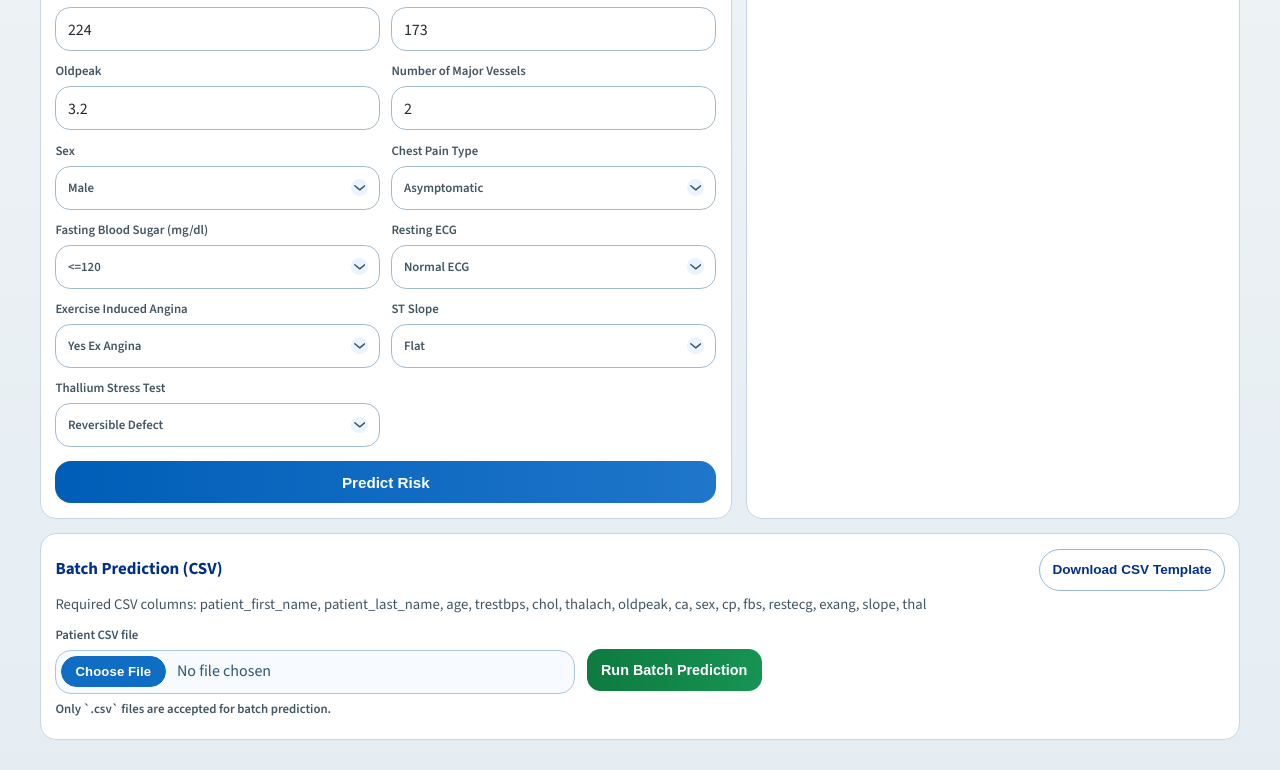
save flow posts patient name fields and shows saved confirmation
This screenshot has width=1280, height=770.
(page scrolled)
Click the button "Predict Risk".
click(386, 482)  # box [55,462,716,504]
(page scrolled)
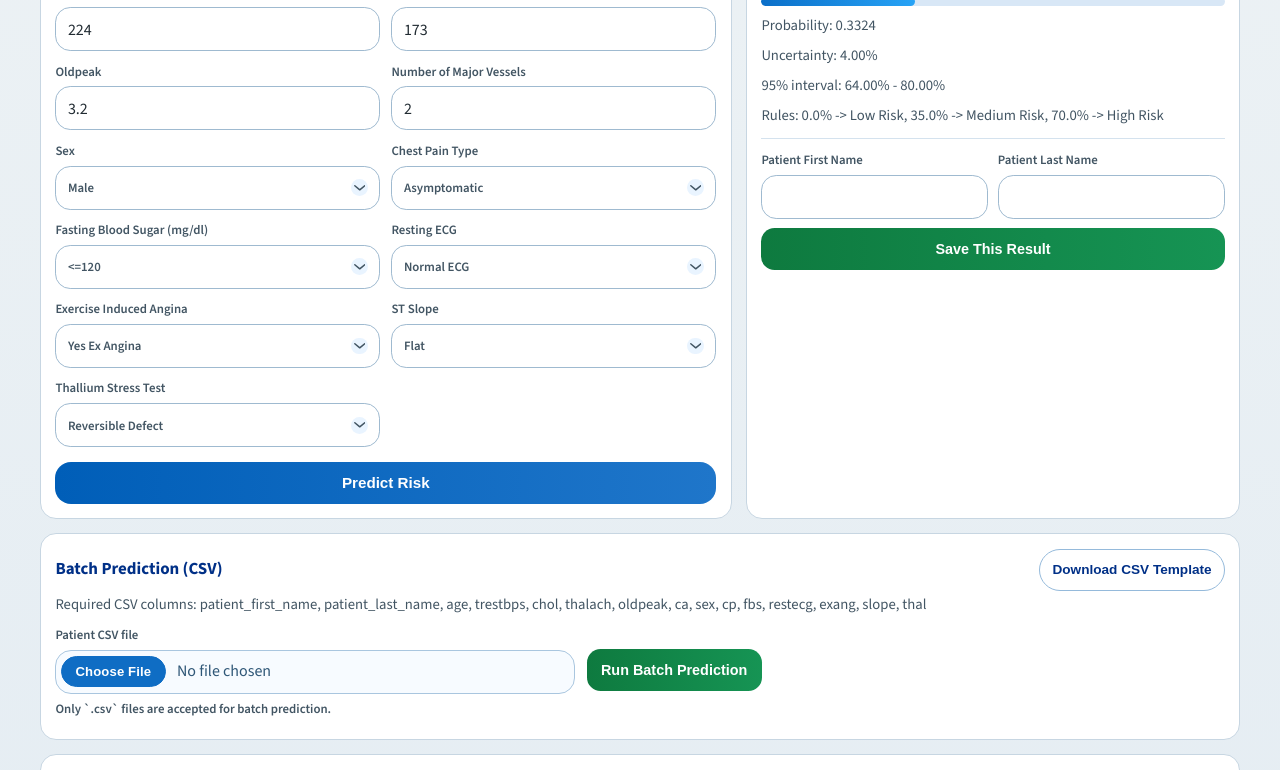
Result: the button "Save This Result" is shown at [761,228,1225,270]
Type "Ada" into the field labelled "Patient First Name".
click(875, 197); type("Ada")  # box [761,175,988,219]
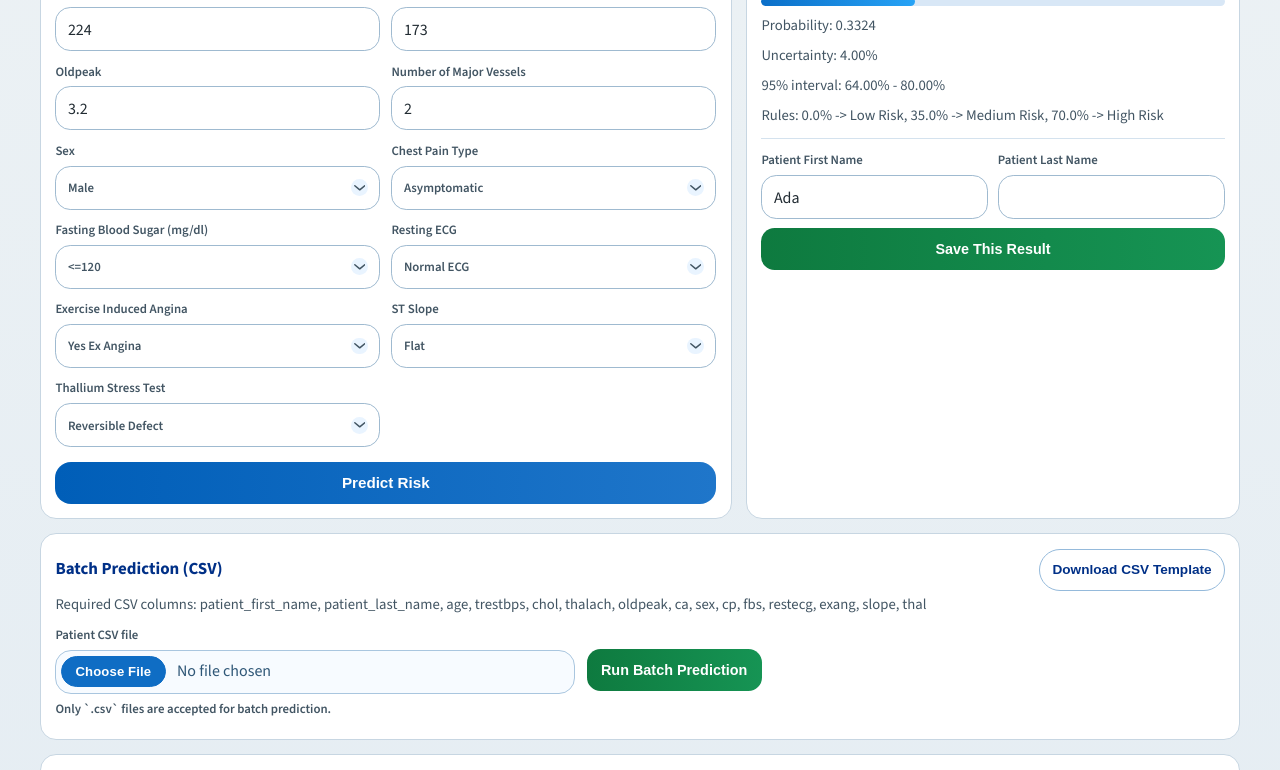
Type "Lovelace" into the field labelled "Patient Last Name".
click(1111, 197); type("Lovelace")  # box [998,175,1225,219]
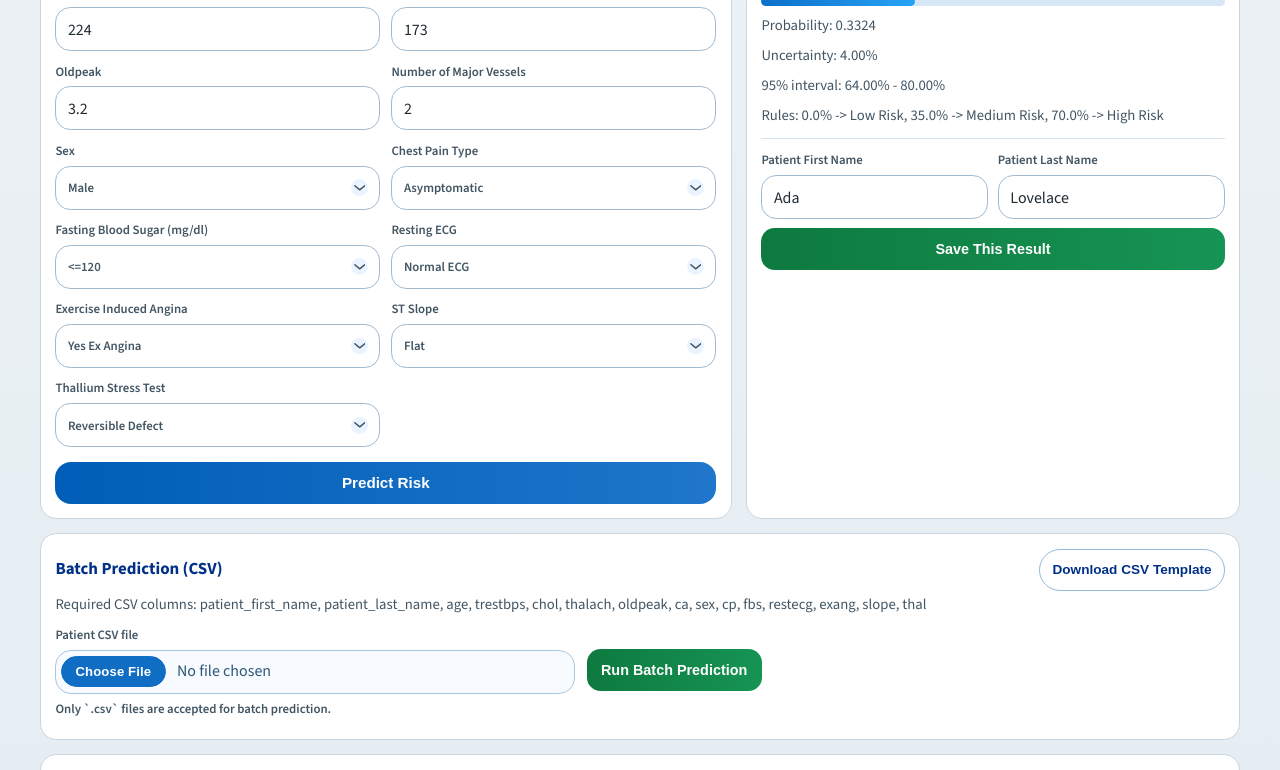
Click the button "Save This Result".
click(993, 249)  # box [761,228,1225,270]
(page scrolled)
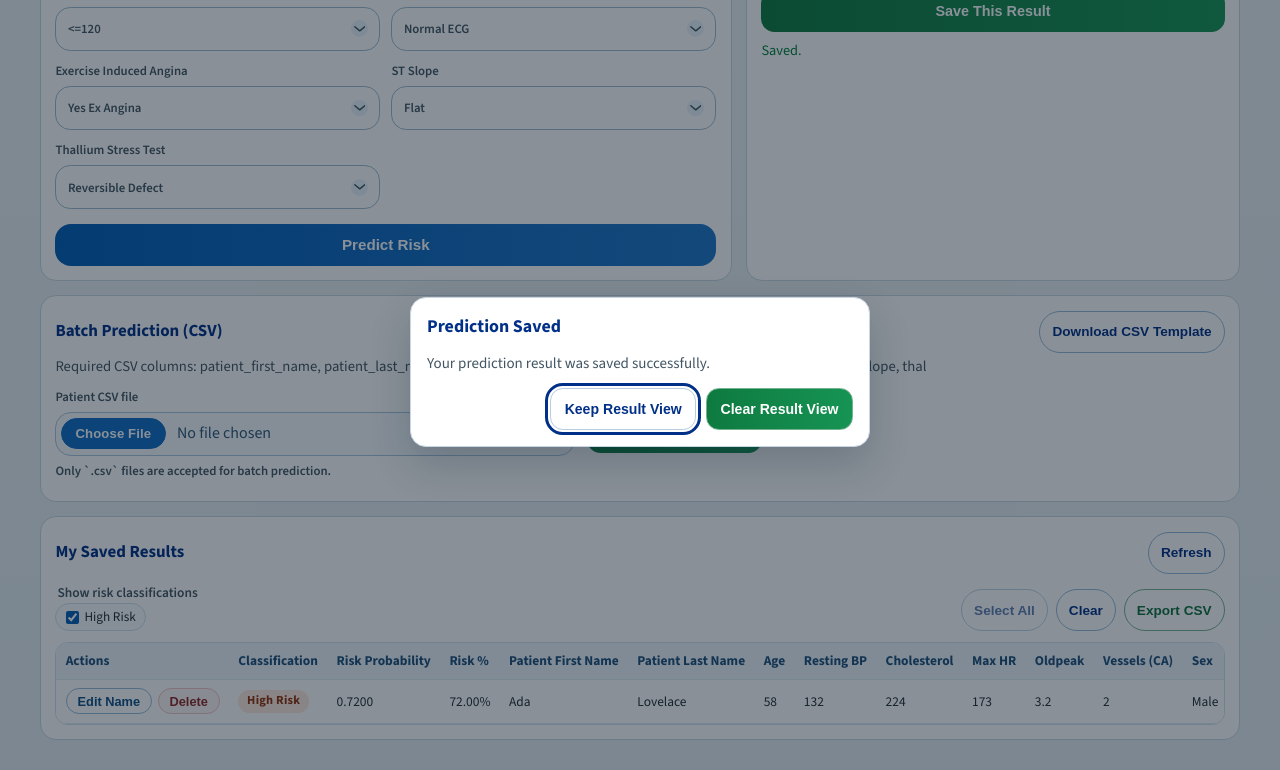
Result: the text "Saved." is shown at [761,41,802,60]
Result: the cell "Ada" is shown at [500,680,628,724]
Result: the cell "Lovelace" is shown at [628,680,754,724]
